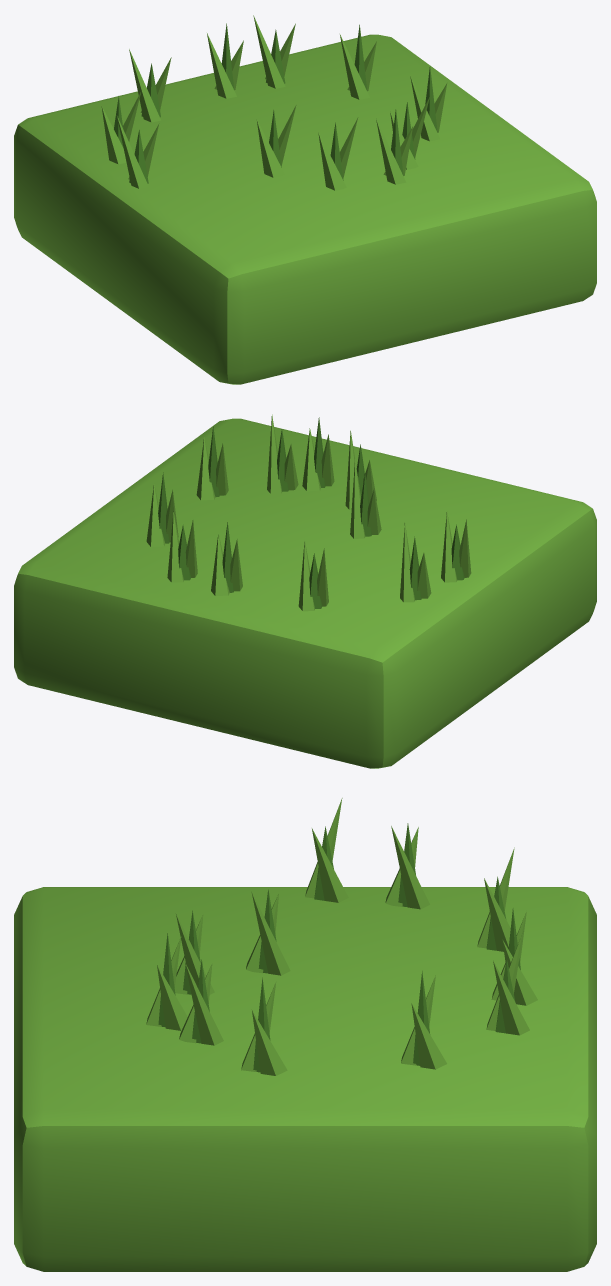
The model's file is for_ground_grass.glb.
3 views of the same model, one above another, from view 1: azimuth 30°, elevation 25°; view 2: azimuth 150°, elevation 25°; view 3: azimuth 270°, elevation 25° (orthographic). The views are drawn at different scales.
Parts seen in each view (by area): view 1: for_ground_grass; view 2: for_ground_grass; view 3: for_ground_grass.
Boxes of the visible parts, box(x1,y1,x2,y2) form: for_ground_grass: box(14, 15, 596, 384); for_ground_grass: box(14, 414, 596, 768); for_ground_grass: box(14, 798, 596, 1271).
Bounding box in the file's own units: 0.98 × 0.47 × 0.98.
